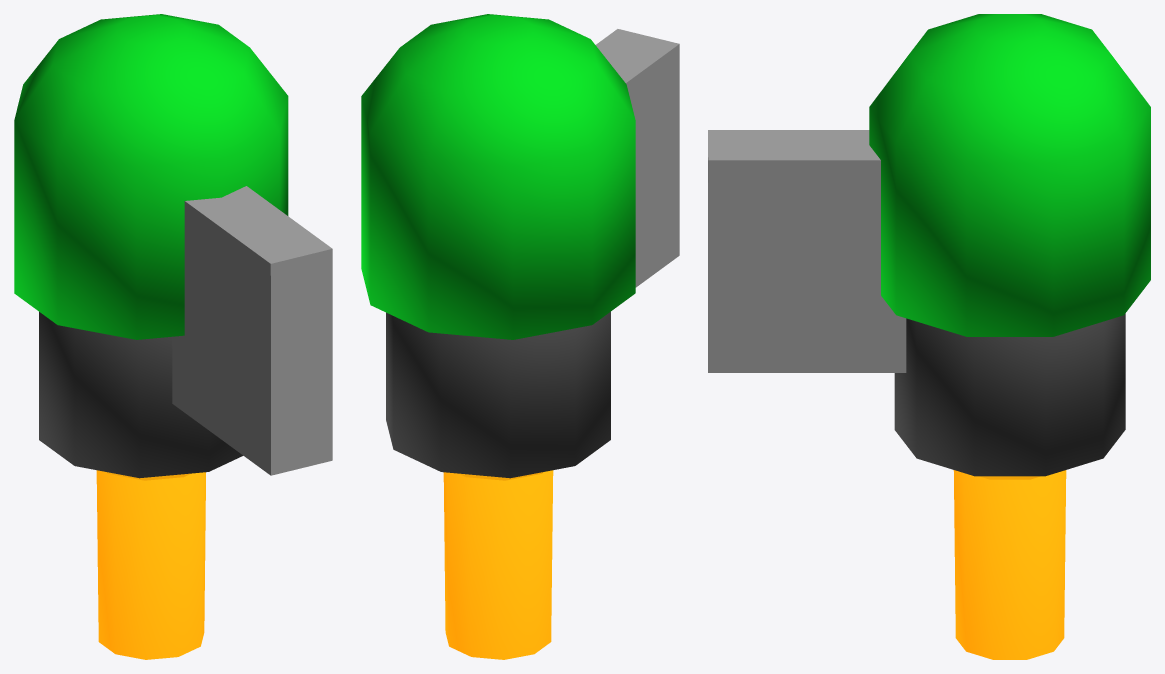
The model's file is directional.glb.
3 renders of one model, left to right at view 1: azimuth 30°, elevation 25°; view 2: azimuth 150°, elevation 25°; view 3: azimuth 270°, elevation 25°, orthographic.
Parts seen in each view (by area): view 1: Cube.058, boost-part.009; view 2: Cube.058, boost-part.009; view 3: Cube.058, boost-part.009.
Part boxes in pixels (<box>): Cube.058: <box>14,14,332,480</box>; boost-part.009: <box>96,470,205,659</box>; Cube.058: <box>361,14,679,480</box>; boost-part.009: <box>443,470,553,659</box>; Cube.058: <box>708,14,1150,479</box>; boost-part.009: <box>953,470,1066,659</box>.
Size of the model in its own units: 0.1072 by 0.2692 by 0.1772.
